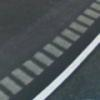crosswalks: (5, 0, 97, 100)
